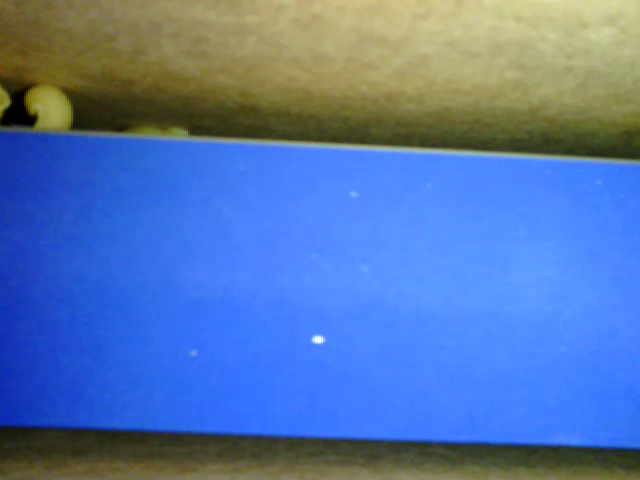shell: (24, 86, 75, 136)
